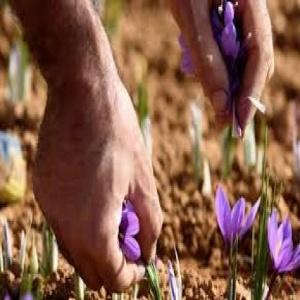Saffron: (216, 187, 261, 257), (265, 215, 300, 279)
